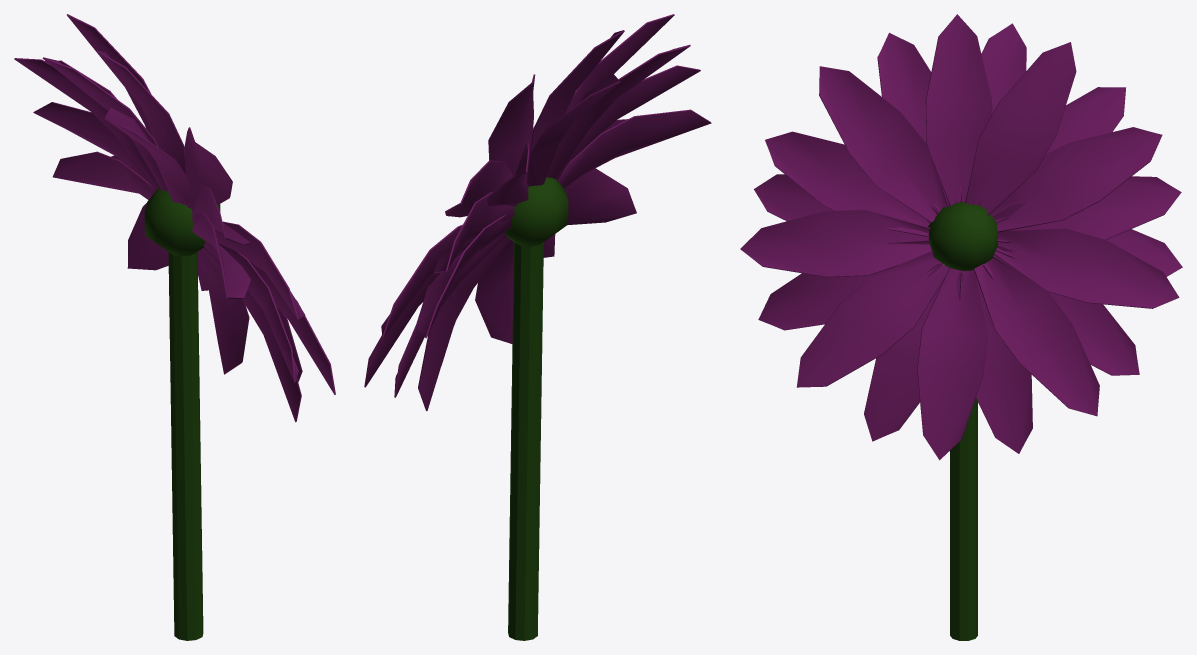
File: Flower_Pink.FBX
3 renders of one model, left to right at view 1: azimuth 30°, elevation 25°; view 2: azimuth 150°, elevation 25°; view 3: azimuth 270°, elevation 25°, orthographic. The views are drawn at different scales.
Visible parts, largest first — view 1: Sphere001, Plane006, Plane001, Plane016, Plane021, Plane019, Plane013, Plane014, Plane010, Plane017, Plane008, Plane011 (+5 smaller); view 2: Sphere001, Plane015, Plane006, Plane010, Plane008, Plane014, Plane018, Plane012, Plane017, Plane001, Plane016, Plane013 (+6 smaller); view 3: Sphere001, Plane018, Plane013, Plane009, Plane007, Plane003, Plane005, Plane011, Plane020, Plane016, Plane012, Plane006 (+9 smaller).
Part boxes in pixels (box(x1,y1,x2,y2)): Sphere001: box(144, 187, 220, 640); Plane006: box(197, 249, 249, 374); Plane001: box(52, 151, 153, 199); Plane016: box(97, 50, 185, 173); Plane021: box(33, 102, 156, 192); Plane019: box(14, 58, 159, 189); Plane013: box(184, 127, 232, 208); Plane014: box(104, 107, 190, 205); Plane010: box(203, 241, 298, 382); Plane017: box(42, 57, 167, 190); Plane008: box(201, 247, 301, 422); Plane011: box(215, 221, 305, 319); Sphere001: box(504, 177, 568, 640); Plane015: box(558, 109, 711, 188); Plane006: box(418, 237, 510, 410); Plane010: box(564, 168, 636, 224); Plane008: box(475, 239, 513, 343); Plane014: box(546, 44, 690, 179); Plane018: box(488, 74, 535, 176); Plane012: box(556, 65, 700, 180); Plane017: box(526, 74, 620, 186); Plane001: box(415, 214, 511, 338); Plane016: box(530, 30, 624, 152); Plane013: box(565, 14, 674, 113); Sphere001: box(928, 202, 998, 640); Plane018: box(965, 42, 1076, 215); Plane013: box(819, 66, 951, 222); Plane009: box(796, 250, 948, 387); Plane007: box(917, 268, 987, 460); Plane003: box(973, 253, 1099, 416); Plane005: box(992, 228, 1179, 308); Plane011: box(740, 209, 931, 277); Plane020: box(985, 127, 1162, 232); Plane016: box(925, 14, 992, 205); Plane012: box(765, 131, 938, 236); Plane006: box(959, 266, 1032, 453).
Bounding box in the file's own units: 74.1 × 199 × 138.
